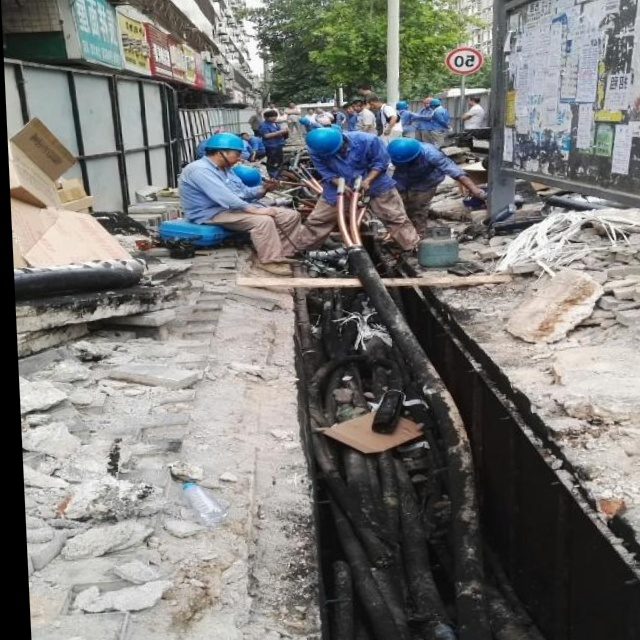Con_Casco: (302, 126, 346, 157), (201, 133, 248, 161)
Sin_Chaleco: (168, 163, 245, 219)
